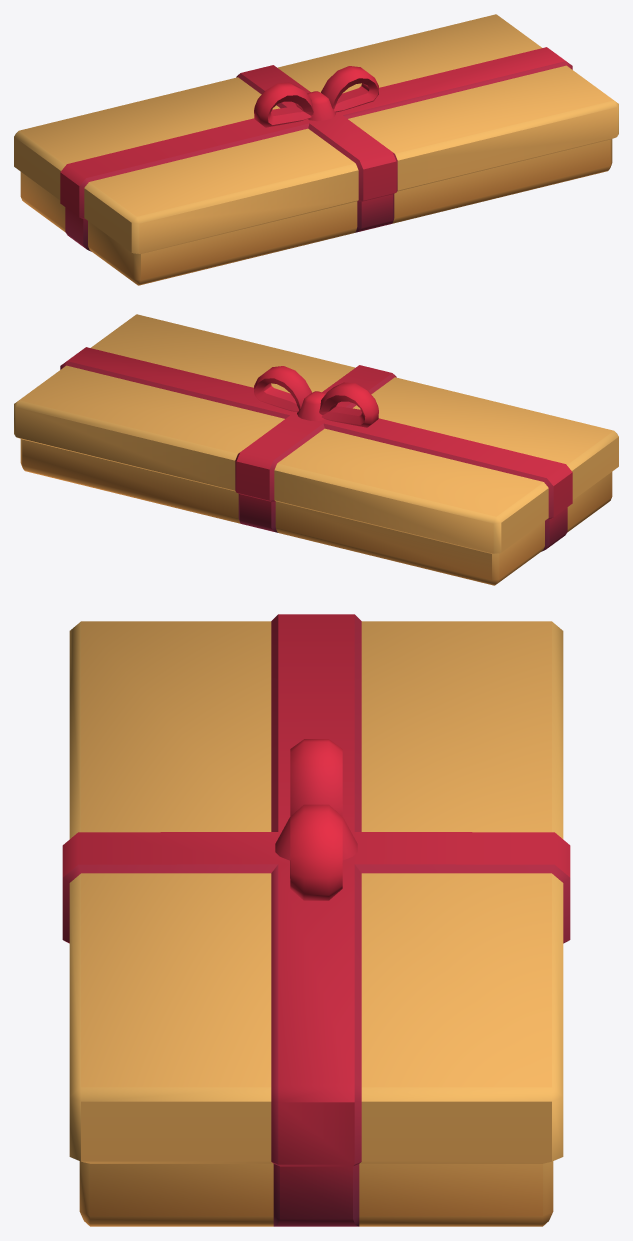
The model's file is present_F_yellow.obj.
3 renders of one model, top to bottom at view 1: azimuth 30°, elevation 25°; view 2: azimuth 150°, elevation 25°; view 3: azimuth 270°, elevation 25°, orthographic. The views are drawn at different scales.
Parts seen in each view (by area): view 1: present_F_yellow; view 2: present_F_yellow; view 3: present_F_yellow.
Part boxes in pixels (<box>): present_F_yellow: <box>14,14,618,285</box>; present_F_yellow: <box>14,314,618,585</box>; present_F_yellow: <box>62,614,570,1226</box>.
Bounding box in the file's own units: 2.16 × 0.4617 × 0.9638.
Materials: 1 (1 with a texture image).
